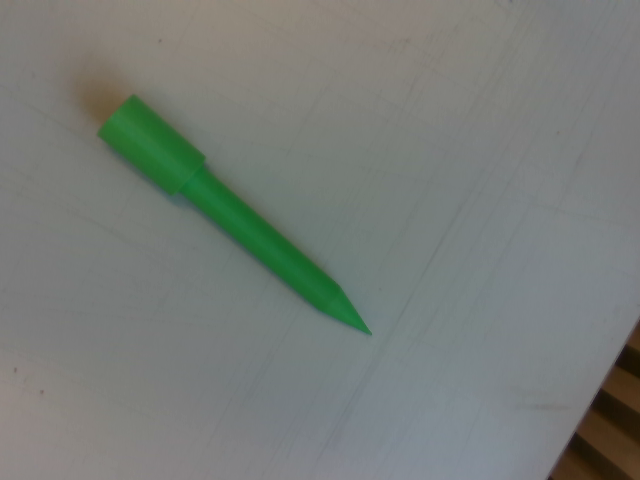Probe: (91, 87, 383, 343)
